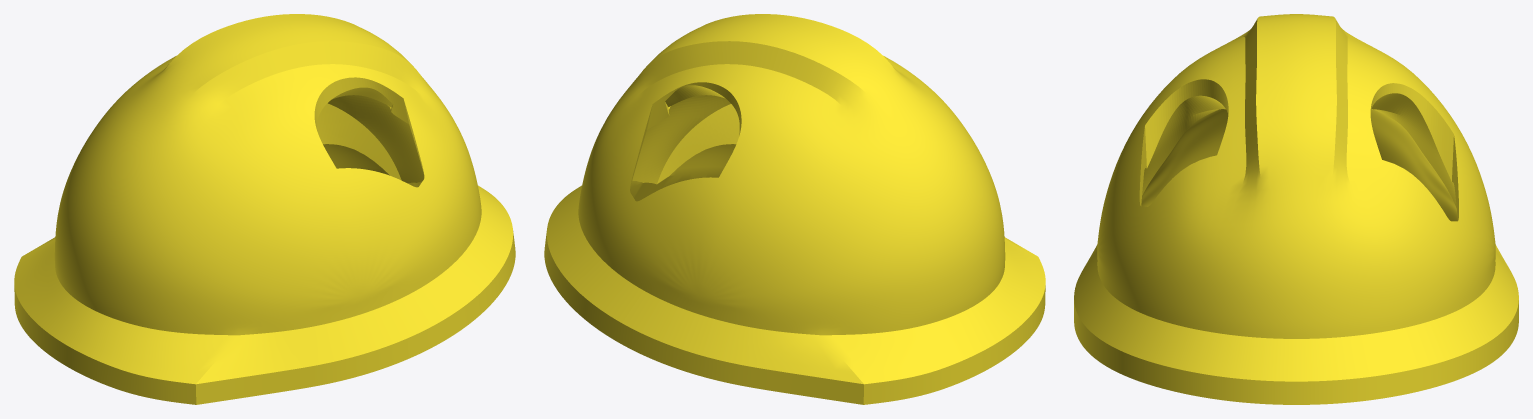
The model's file is Horse Hard Hat.glb.
3 views of the same model, side by side, from view 1: azimuth 30°, elevation 25°; view 2: azimuth 150°, elevation 25°; view 3: azimuth 270°, elevation 25° (orthographic). The views are drawn at different scales.
Parts seen in each view (by area): view 1: Horse Hard Hat; view 2: Horse Hard Hat; view 3: Horse Hard Hat.
Part boxes in pixels (x1,y1,x2,y2): Horse Hard Hat: (14, 14, 515, 404); Horse Hard Hat: (544, 14, 1045, 404); Horse Hard Hat: (1074, 14, 1518, 404).
Size of the model in its own units: 0.0278 by 0.0164 by 0.0227.
